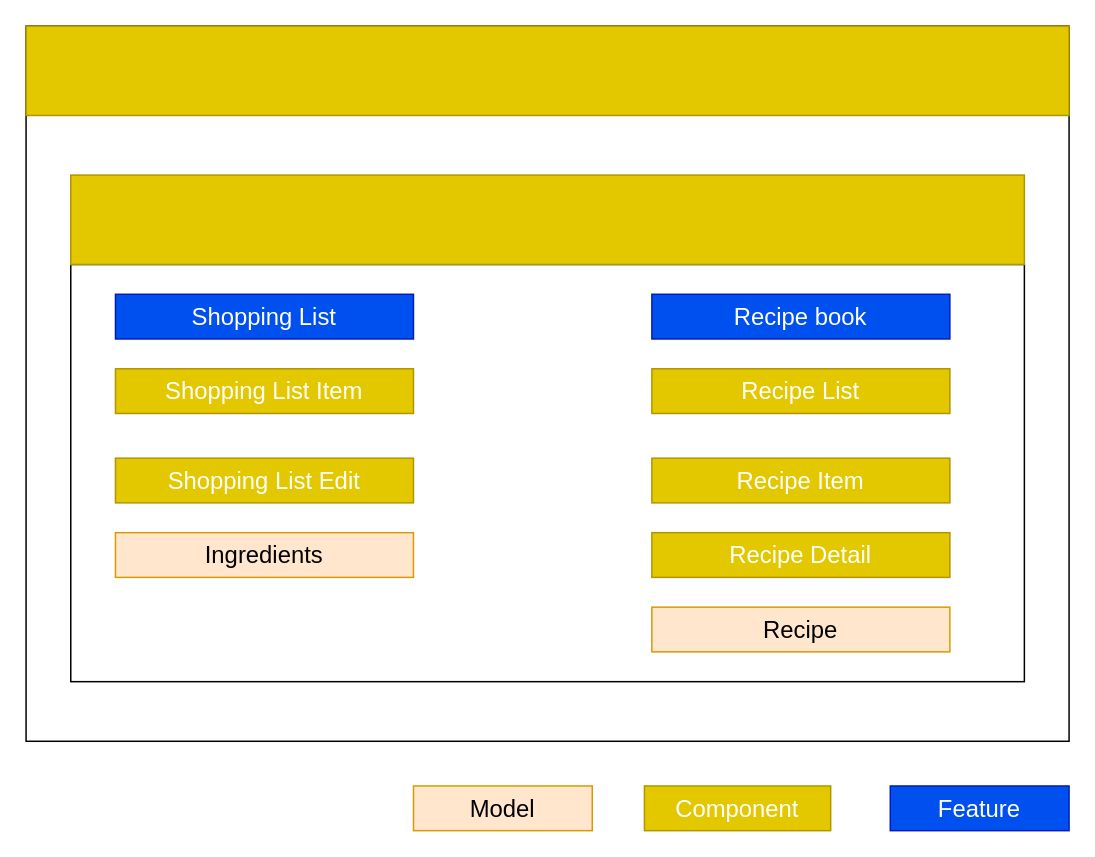
Image size: 1095x857. Some labels were removed from this diagram. Each missing label, with the centre of its shape:
Header: the point at 546,219
Root: the point at 547,70
